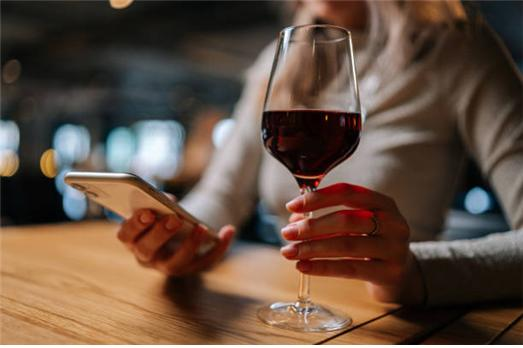alcohol: (254, 22, 365, 337)
